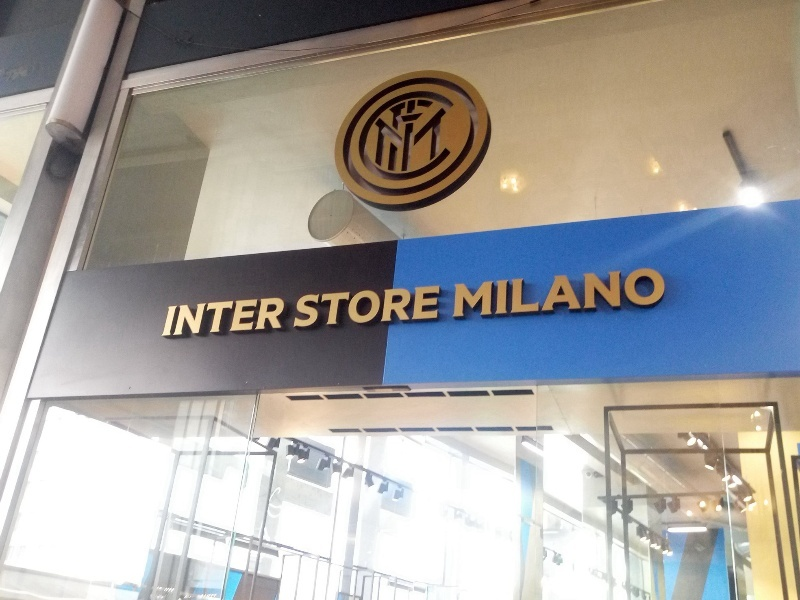text: (465, 267, 480, 318), (481, 267, 496, 318), (497, 267, 512, 318), (513, 267, 528, 318), (529, 267, 544, 318), (545, 267, 560, 318), (561, 267, 576, 318), (577, 267, 592, 318), (593, 267, 608, 318), (609, 267, 624, 318), (625, 267, 640, 318), (641, 267, 656, 318), (177, 296, 192, 340), (193, 296, 208, 340), (209, 296, 224, 340), (225, 296, 240, 340), (241, 296, 256, 340), (257, 296, 272, 340), (305, 286, 320, 328), (321, 286, 336, 328), (337, 286, 352, 328), (353, 286, 368, 328), (369, 286, 384, 328), (385, 286, 400, 328), (401, 286, 416, 328), (417, 286, 432, 328), (273, 296, 286, 340), (657, 267, 668, 318), (455, 267, 464, 318), (168, 296, 176, 340), (433, 286, 440, 328), (298, 286, 304, 328)
